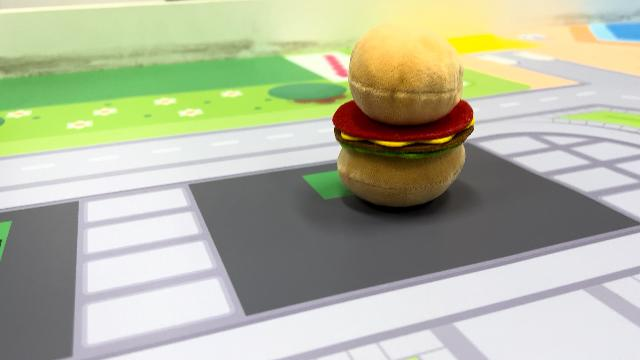burger: (328, 20, 479, 210)
